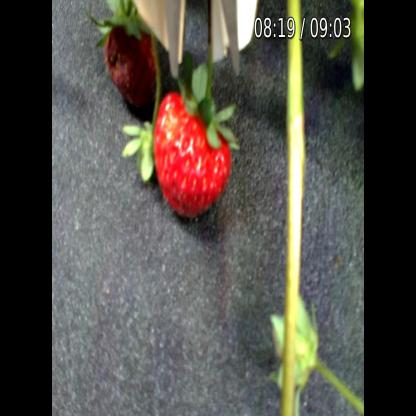ripe: (150, 87, 241, 216), (95, 24, 164, 118)
